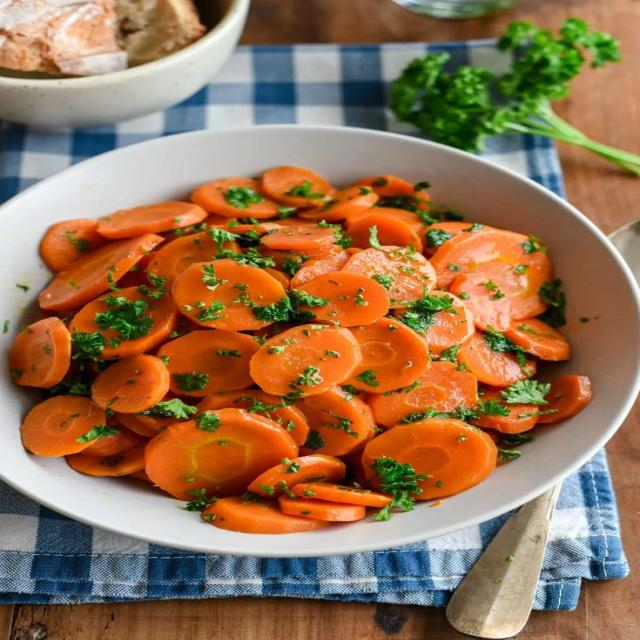carrot: (146, 409, 297, 500), (363, 418, 497, 500), (432, 228, 552, 319), (39, 235, 163, 310), (172, 259, 287, 331), (250, 325, 361, 396), (71, 288, 178, 359), (367, 362, 478, 427), (158, 330, 258, 396), (345, 318, 430, 393), (198, 390, 309, 446), (343, 247, 436, 307), (297, 387, 375, 455), (296, 271, 389, 326), (21, 396, 106, 456), (148, 233, 238, 288), (203, 497, 328, 534), (92, 354, 169, 413), (458, 332, 536, 386), (9, 318, 70, 387), (98, 201, 208, 239), (248, 455, 345, 497), (191, 178, 280, 218), (40, 219, 107, 272), (451, 273, 511, 331), (347, 208, 422, 251), (426, 290, 474, 354), (477, 389, 545, 433), (263, 167, 334, 207), (299, 186, 378, 221), (66, 443, 146, 476), (505, 319, 569, 360), (539, 375, 592, 423), (291, 483, 391, 507), (278, 495, 365, 521), (83, 422, 146, 457), (344, 207, 424, 234), (115, 408, 189, 437), (259, 244, 348, 268), (262, 225, 336, 251), (290, 257, 346, 288), (424, 221, 471, 254), (118, 251, 157, 288), (116, 414, 175, 438), (214, 219, 282, 239), (355, 175, 416, 196), (341, 451, 370, 489), (297, 244, 348, 261), (264, 268, 289, 289), (204, 213, 235, 227), (277, 216, 316, 226), (128, 470, 152, 484), (485, 430, 503, 445), (346, 247, 363, 256)
